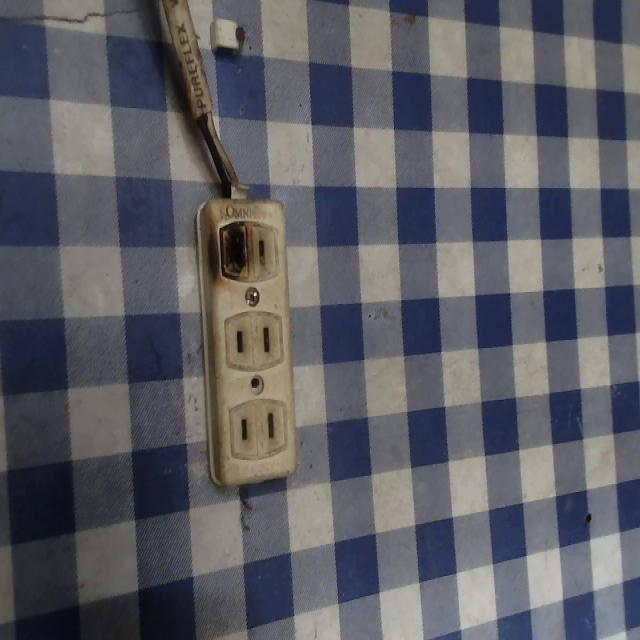-: (210, 210, 253, 290)
